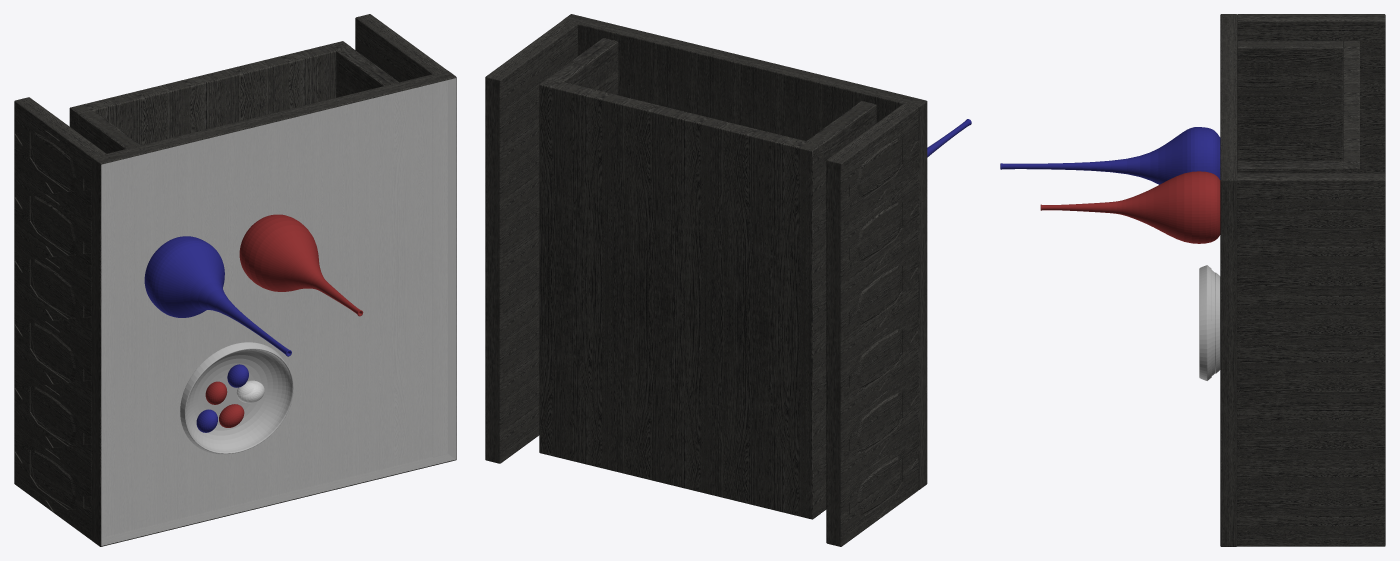
File: fennyTable2.glb
3 views of the same model, side by side, from view 1: azimuth 30°, elevation 25°; view 2: azimuth 150°, elevation 25°; view 3: azimuth 270°, elevation 25° (orthographic). The views are drawn at different scales.
Visible parts, largest first — view 1: FENY Collection N041025; view 2: FENY Collection N041025; view 3: FENY Collection N041025.
Part boxes in pixels (left/top/right/bottom): FENY Collection N041025: left=14, top=14, right=456, bottom=546; FENY Collection N041025: left=485, top=14, right=971, bottom=546; FENY Collection N041025: left=1000, top=14, right=1385, bottom=546.
Bounding box in the file's own units: 49.84 × 51.21 × 48.67.
Materials: 5 (1 with a texture image).
